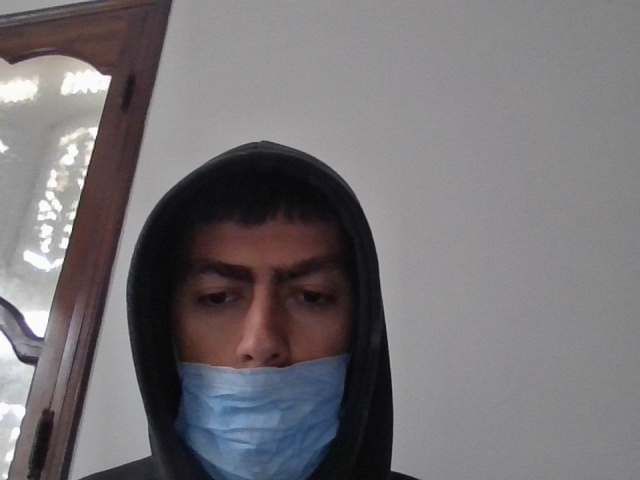mask_weared_incorrect: (162, 206, 362, 480)
